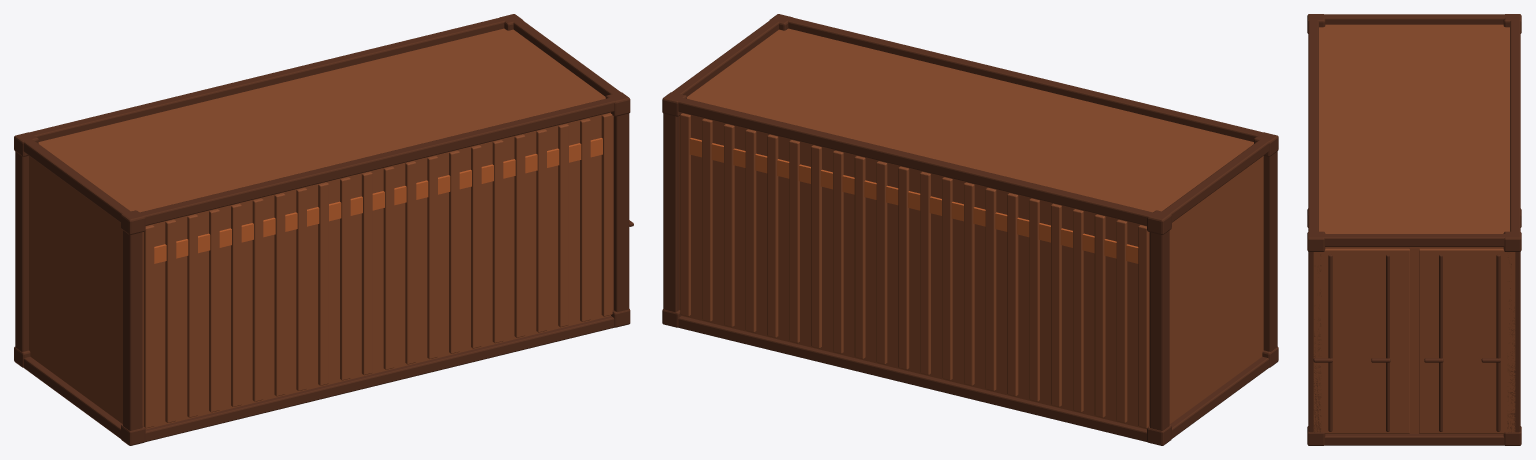
Rendered from prop_container.glb.
3 views of the same model, side by side, from view 1: azimuth 30°, elevation 25°; view 2: azimuth 150°, elevation 25°; view 3: azimuth 270°, elevation 25° (orthographic). The views are drawn at different scales.
Visible parts, largest first — view 1: body, rail12, rail10, rail-12, band, post-11, post11, post-1-1, rib1_0, rib1_17, rib1_1, rib1_12 (+21 smaller); view 2: body, rail-12, rail-10, rail12, band, post-1-1, post1-1, post-11, rib-1_7, rib-1_2, rib-1_13, rib-1_18 (+21 smaller); view 3: body, door1, door0, rail_end12, rail-12, rail12, rail_end10, rail_end-12, post11, post1-1, lockbar0, lockbar3 (+6 smaller).
Boxes of the visible parts, bbox=[...] form: body: bbox=[29, 28, 613, 429]; rail12: bbox=[137, 97, 614, 225]; rail10: bbox=[145, 316, 614, 441]; rail-12: bbox=[17, 15, 511, 141]; band: bbox=[154, 138, 602, 263]; post-11: bbox=[123, 214, 142, 430]; post11: bbox=[613, 113, 629, 312]; post-1-1: bbox=[15, 151, 28, 351]; rib1_0: bbox=[143, 225, 154, 428]; rib1_17: bbox=[514, 134, 525, 337]; rib1_1: bbox=[165, 219, 176, 422]; rib1_12: bbox=[405, 161, 416, 364]; body: bbox=[679, 28, 1263, 429]; rail-12: bbox=[678, 97, 1157, 225]; rail-10: bbox=[678, 316, 1147, 441]; rail12: bbox=[787, 17, 1275, 141]; band: bbox=[689, 138, 1138, 263]; post-1-1: bbox=[1150, 214, 1169, 430]; post1-1: bbox=[663, 113, 678, 312]; post-11: bbox=[1263, 151, 1277, 351]; rib-1_7: bbox=[985, 187, 996, 390]; rib-1_2: bbox=[1094, 214, 1105, 417]; rib-1_13: bbox=[854, 156, 865, 359]; rib-1_18: bbox=[745, 129, 756, 332]; body: bbox=[1319, 24, 1509, 433]; door1: bbox=[1313, 248, 1409, 433]; door0: bbox=[1419, 248, 1515, 433]; rail_end12: bbox=[1309, 234, 1519, 246]; rail-12: bbox=[1510, 14, 1520, 236]; rail12: bbox=[1308, 14, 1318, 233]; rail_end10: bbox=[1324, 433, 1504, 445]; rail_end-12: bbox=[1313, 14, 1518, 24]; post11: bbox=[1308, 232, 1321, 432]; post1-1: bbox=[1507, 232, 1520, 432]; lockbar0: bbox=[1496, 254, 1500, 431]; lockbar3: bbox=[1328, 254, 1332, 431].
Size of the model in its own units: 6.1 by 2.6 by 2.42.
